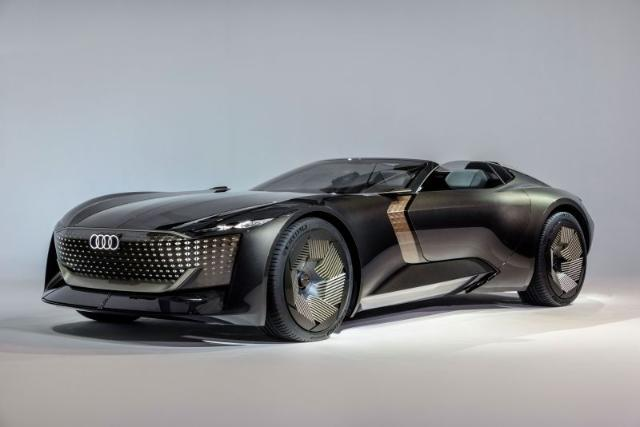audi: (40, 156, 596, 344)
